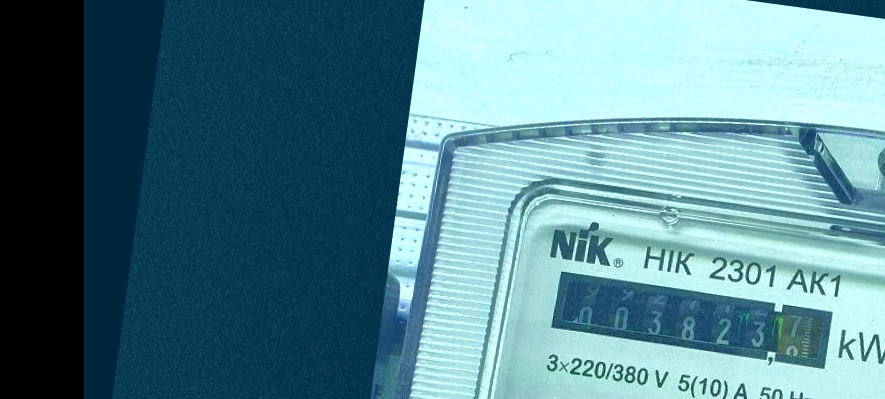0: (609, 301, 632, 330), (575, 300, 596, 325)
2: (713, 313, 736, 347)
3: (748, 317, 770, 349), (645, 305, 666, 336)
7: (786, 312, 806, 342)
8: (678, 311, 699, 341)
9: (581, 280, 601, 301)
screen: (543, 264, 838, 373)
